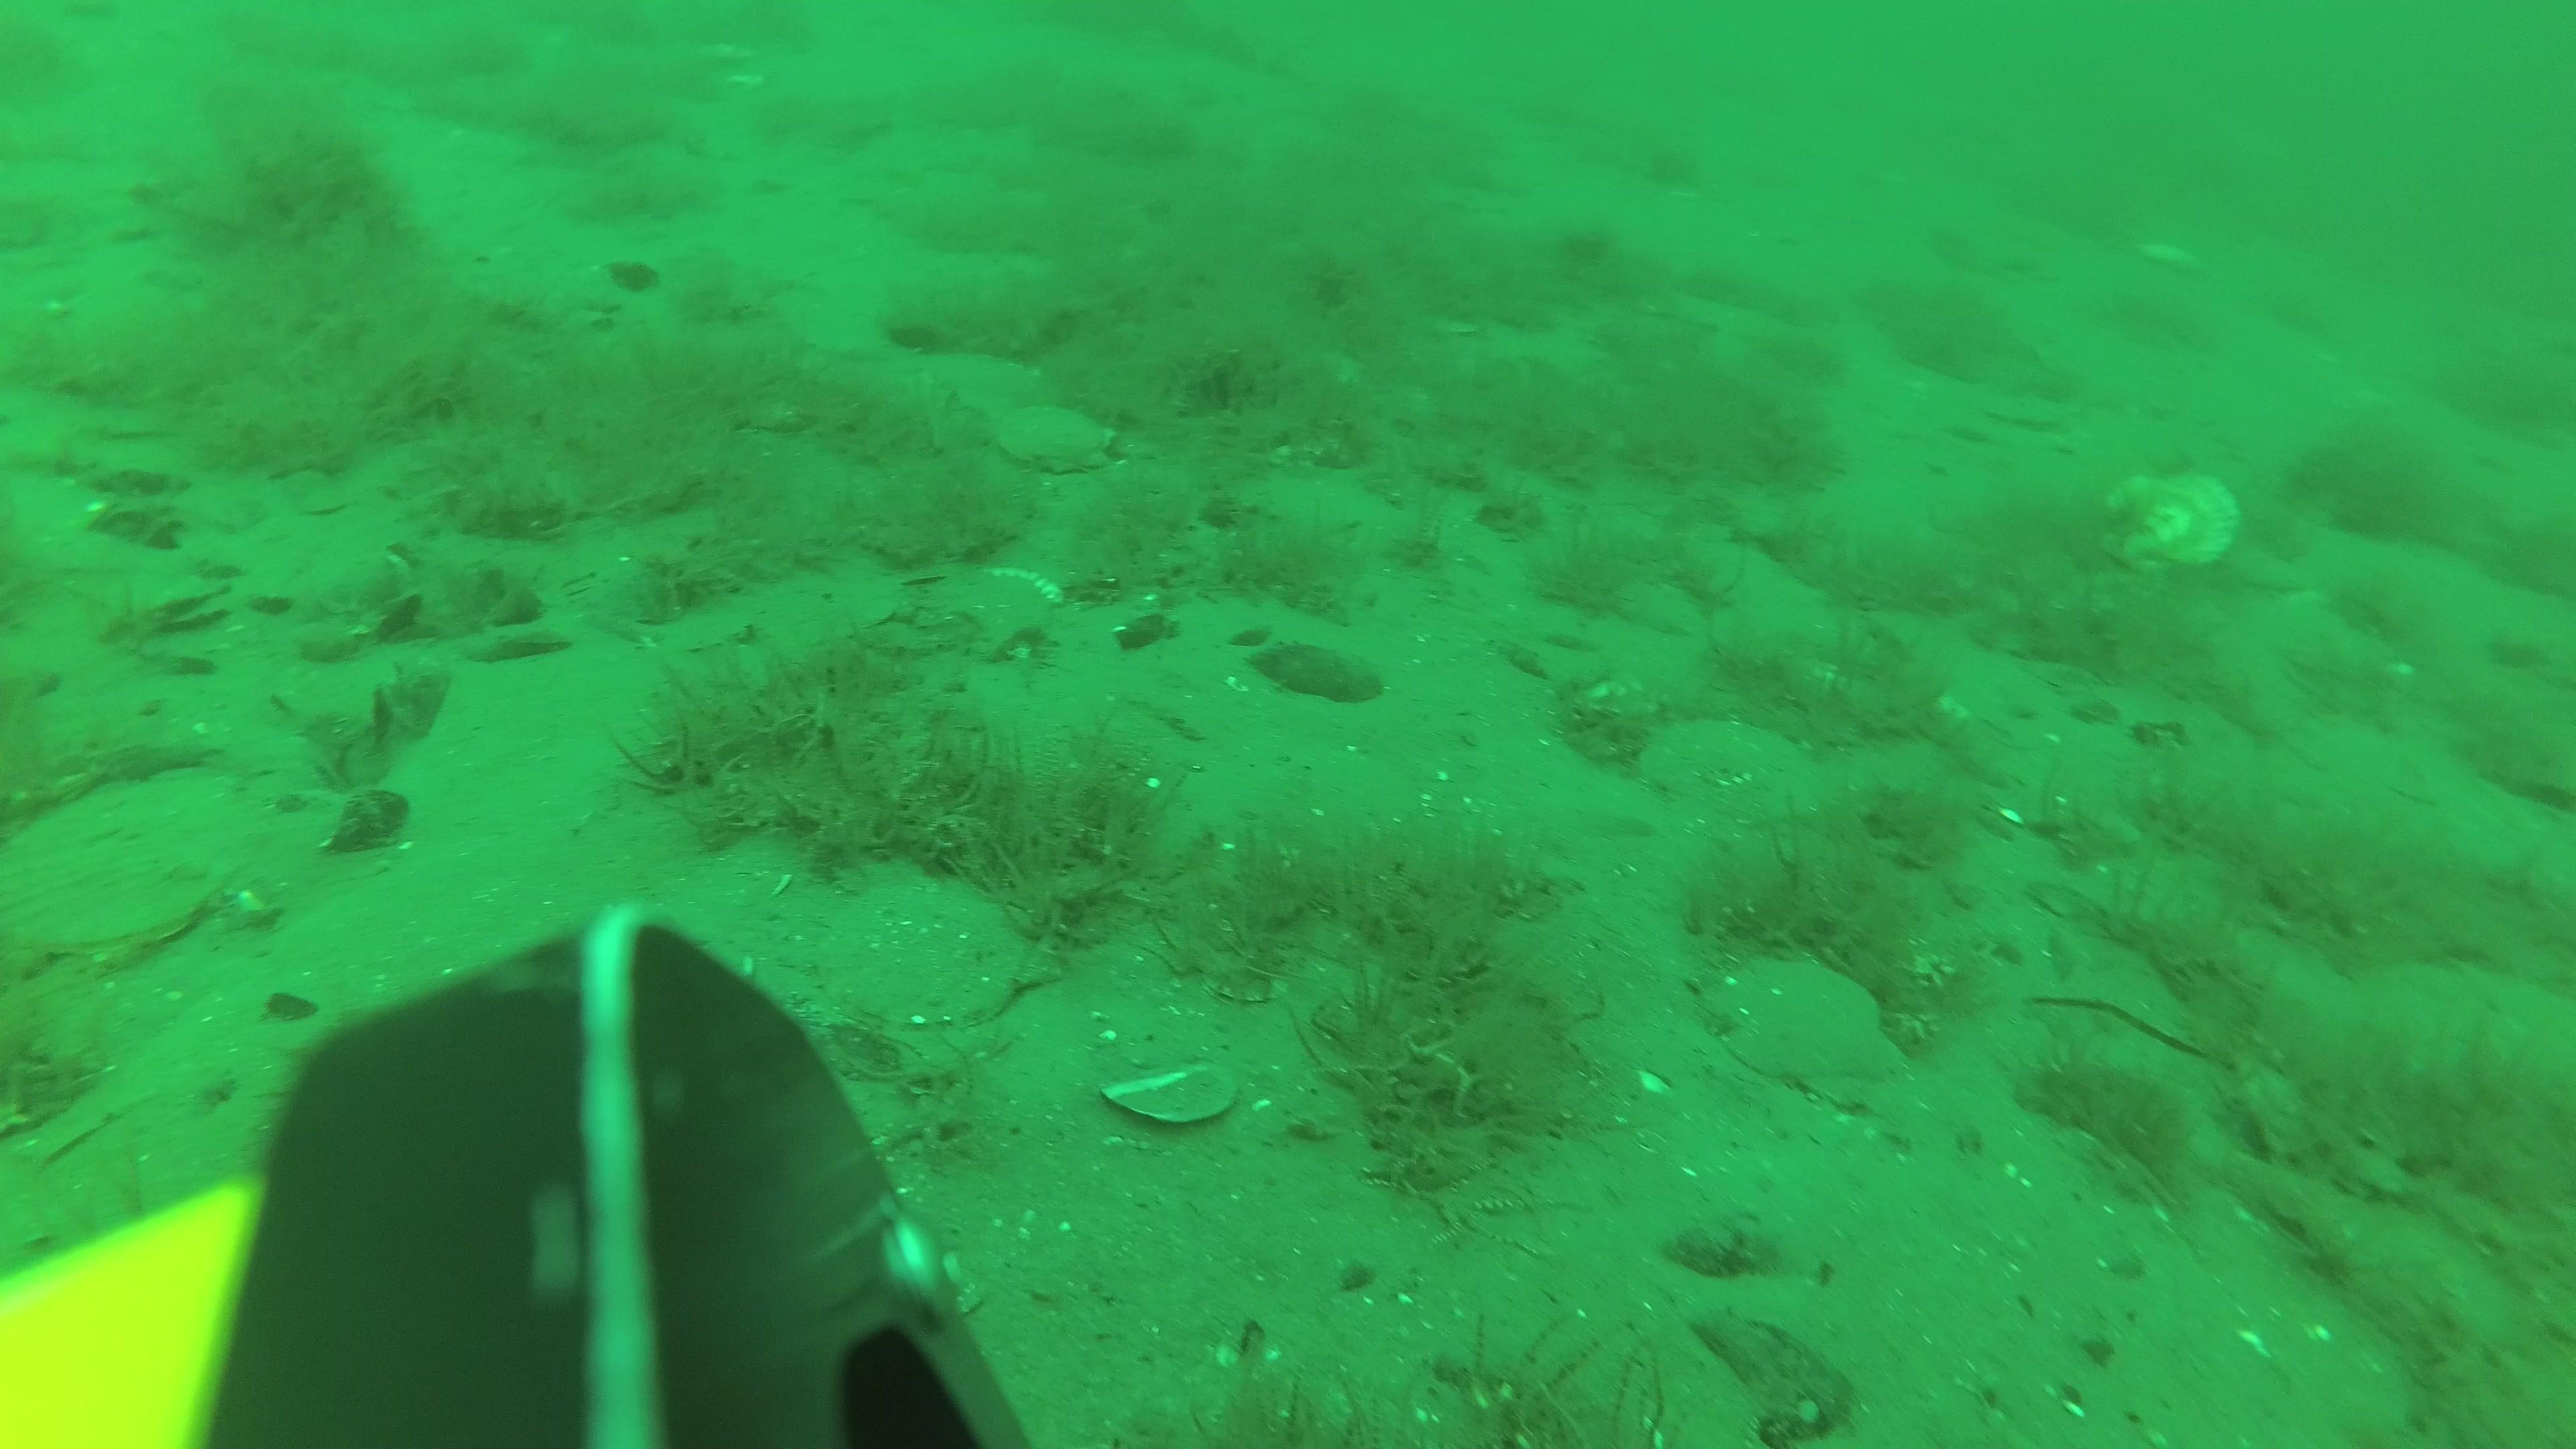scallop: (816, 885, 1053, 1024), (1704, 957, 1907, 1085), (2097, 472, 2238, 573), (996, 400, 1118, 472), (2141, 232, 2196, 265)
